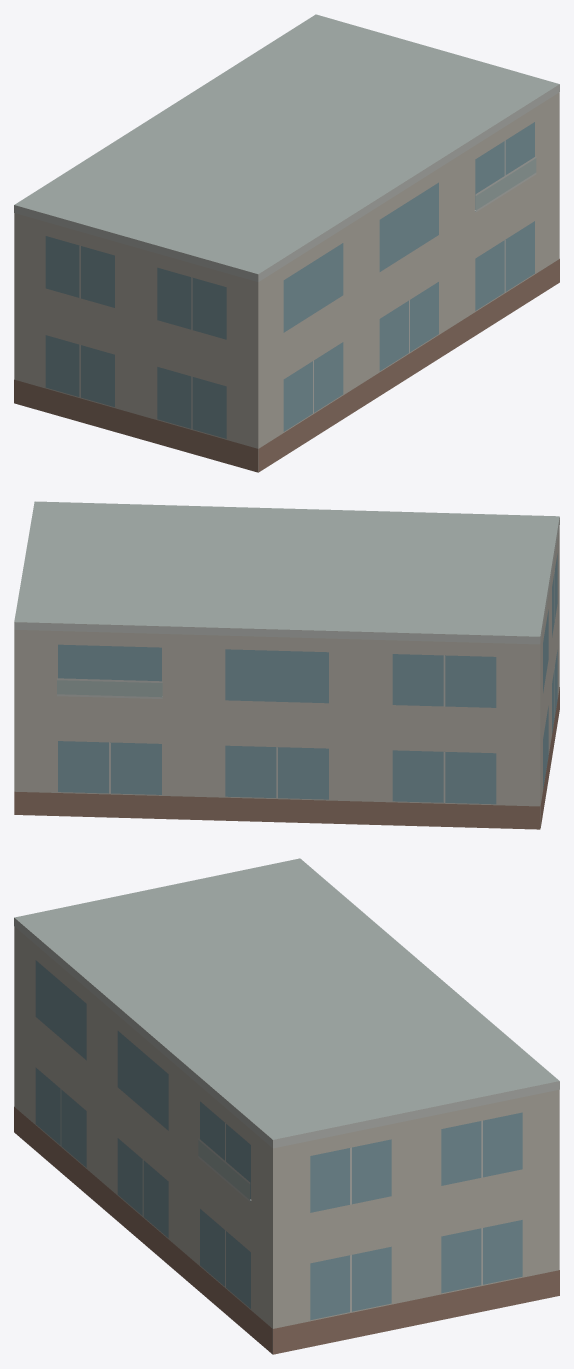
The model's file is survey-upis-32982362.glb.
3 renders of one model, top to bottom at view 1: azimuth 30°, elevation 25°; view 2: azimuth 150°, elevation 25°; view 3: azimuth 270°, elevation 25°, orthographic. The views are drawn at different scales.
Parts seen in each view (by area): view 1: survey-upis-32982362.tmp; view 2: survey-upis-32982362.tmp; view 3: survey-upis-32982362.tmp.
Part boxes in pixels (box(x1,y1,x2,y2)): survey-upis-32982362.tmp: box(14, 14, 559, 472); survey-upis-32982362.tmp: box(14, 501, 559, 829); survey-upis-32982362.tmp: box(14, 858, 559, 1354).
Size of the model in its own units: 17.17 by 6.1 by 14.06.
